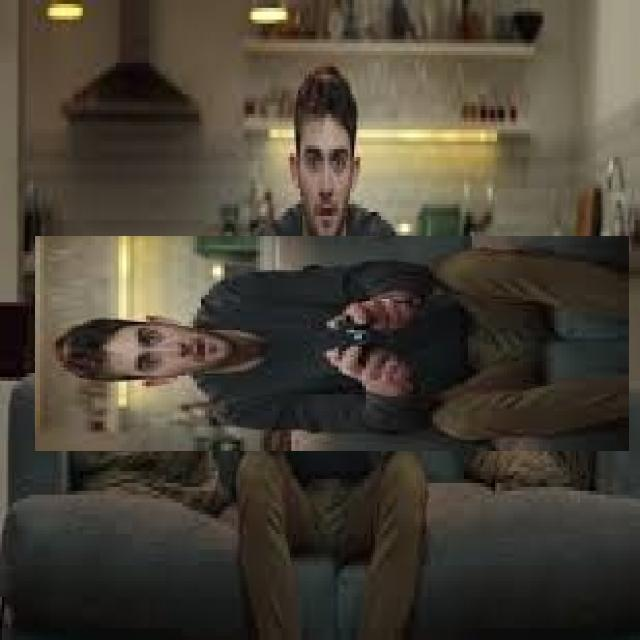NotFall: (83, 93, 635, 511)
